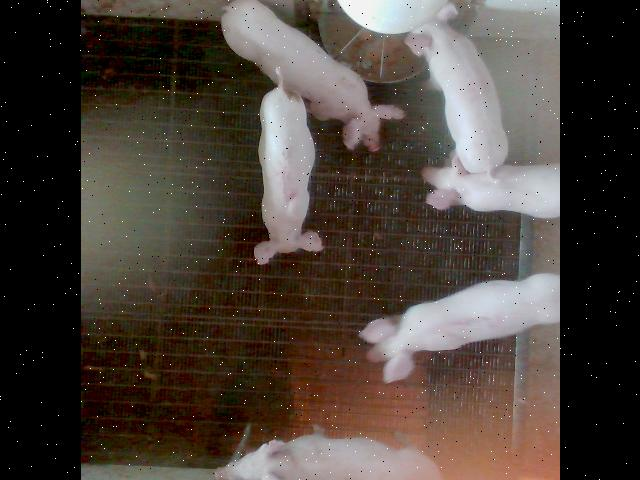pig-3: (359, 274, 559, 382)
pig-4: (404, 4, 508, 179)
pig-5: (252, 75, 321, 264)
